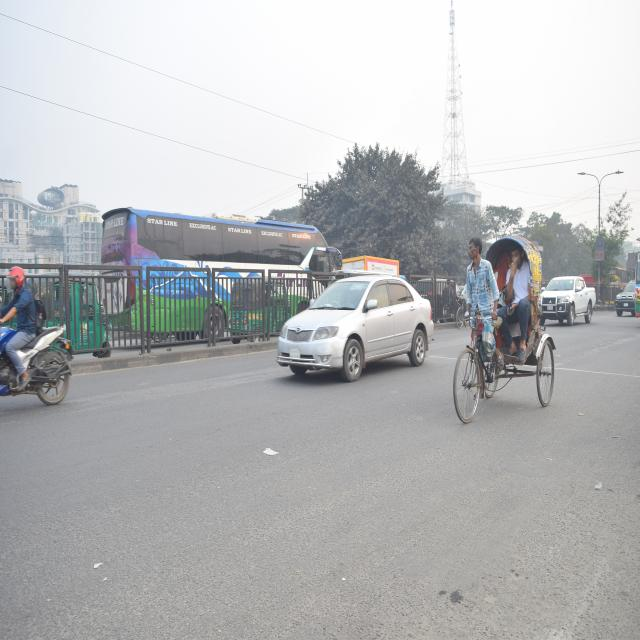bus: (100, 202, 323, 340)
car: (282, 273, 436, 387), (539, 269, 594, 327), (615, 273, 640, 324)
motorbike: (2, 321, 74, 411)
